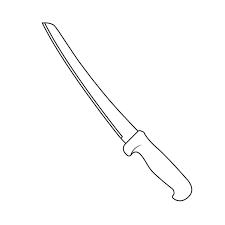Knife: (41, 21, 192, 201)
